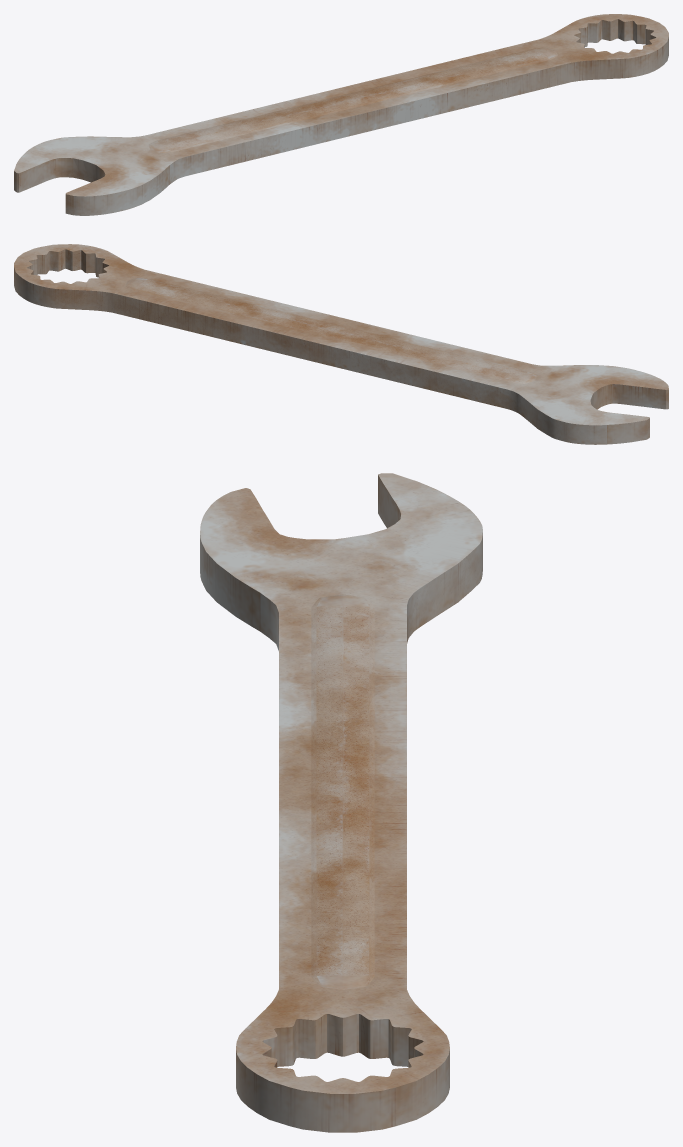
File: Ring Spanner Wrench.fbx
3 renders of one model, top to bottom at view 1: azimuth 30°, elevation 25°; view 2: azimuth 150°, elevation 25°; view 3: azimuth 270°, elevation 25°, orthographic. The views are drawn at different scales.
Parts seen in each view (by area): view 1: Cube, Cube.001; view 2: Cube, Cube.001; view 3: Cube, Cube.001.
Part boxes in pixels (x1,y1,x2,y2): Cube: (14, 14, 668, 215); Cube.001: (148, 47, 557, 152); Cube: (14, 244, 668, 444); Cube.001: (125, 277, 536, 383); Cube: (200, 473, 482, 1132); Cube.001: (311, 594, 374, 989).
Bounding box in the file's own units: 32.14 × 1.04 × 6.19.
Materials: 1 (1 with a texture image).
